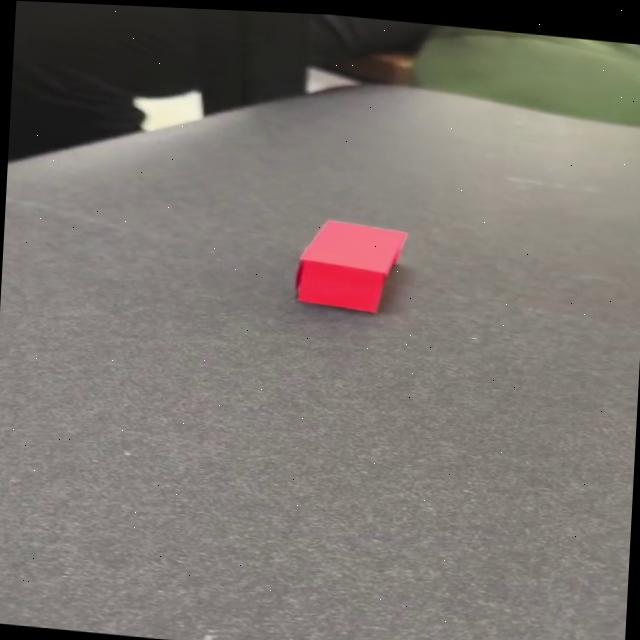red block: (293, 215, 408, 317)
